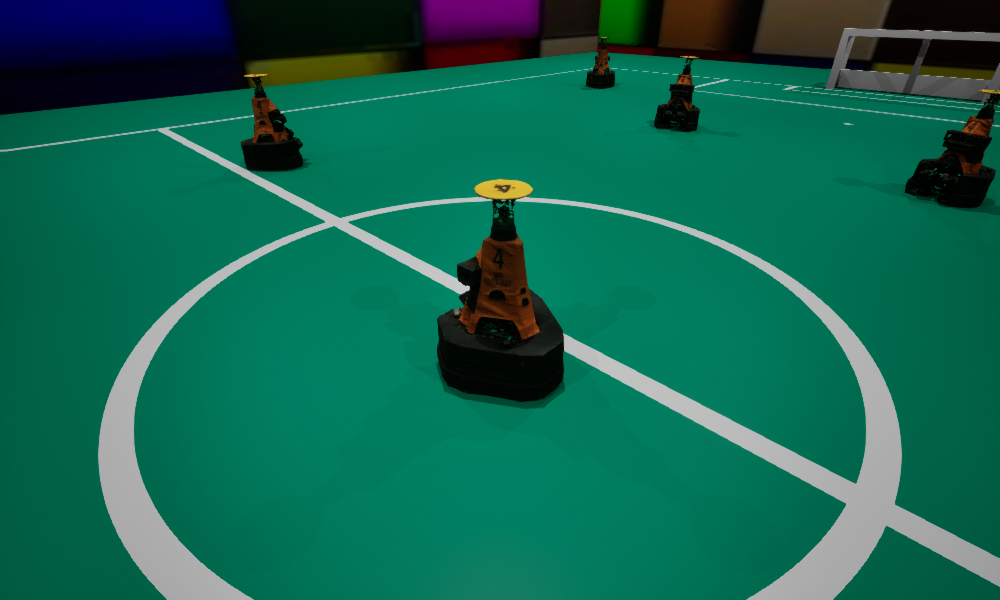0 orange robot TechUnited: (437, 179, 563, 401), (905, 89, 999, 207), (240, 74, 302, 170), (654, 56, 699, 130), (586, 37, 614, 88)
